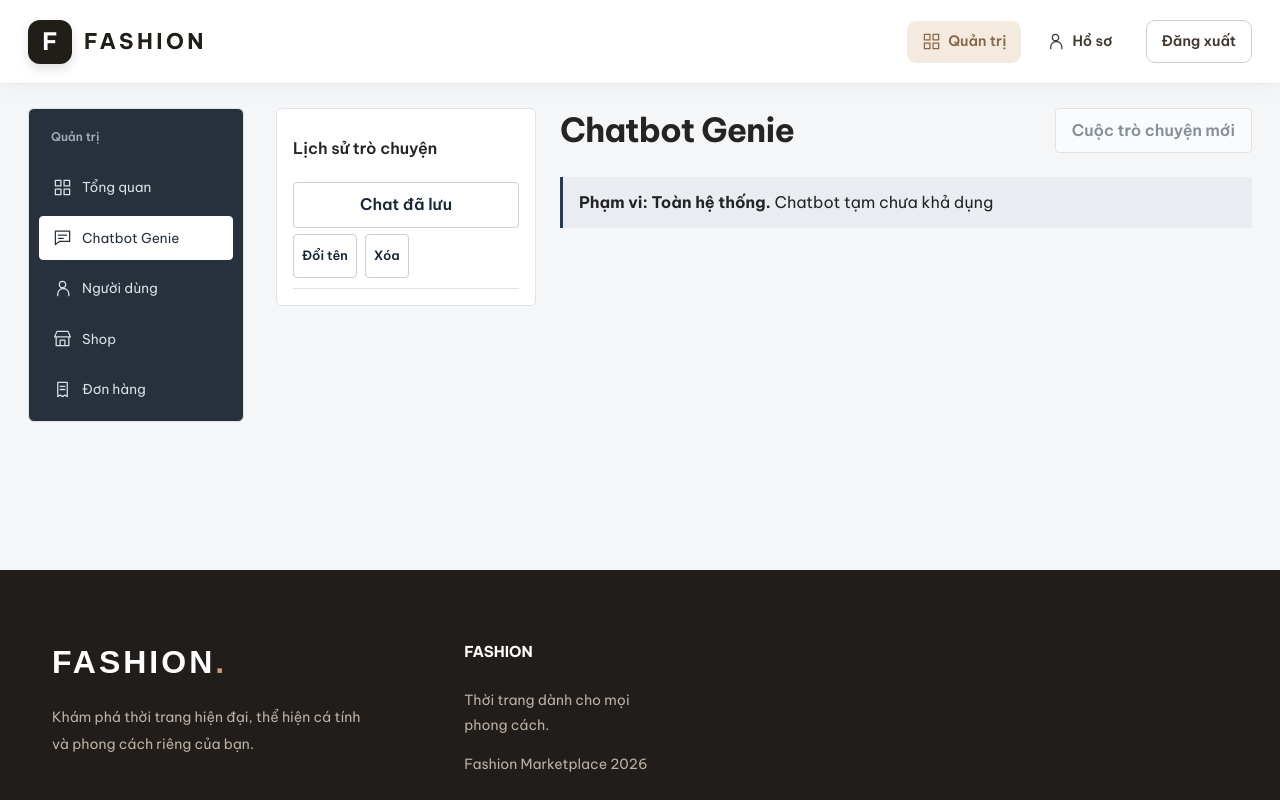
Test: keeps saved results readable while Genie configuration is unavailable
Click the button "Chat đã lưu": (406, 205) [293,182,519,228]
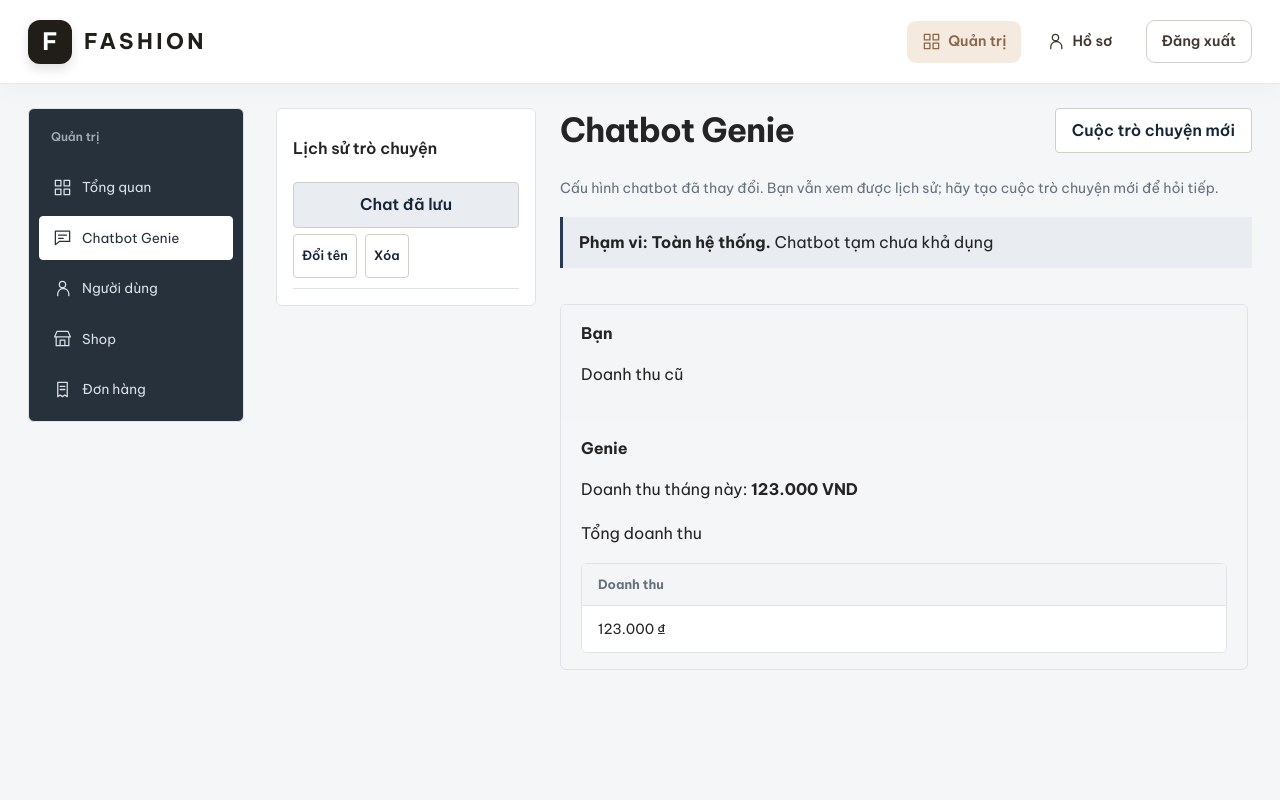
Expected: the text "Doanh thu cũ" is shown, [581,364,684,384]
Expected: the text "123.000 ₫" is shown, [582,606,1226,652]
